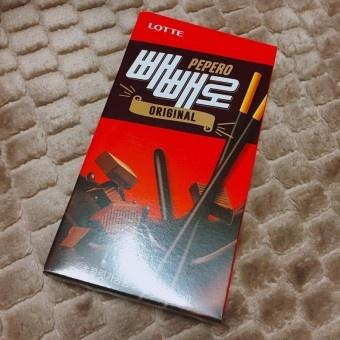snack: (35, 6, 279, 324)
